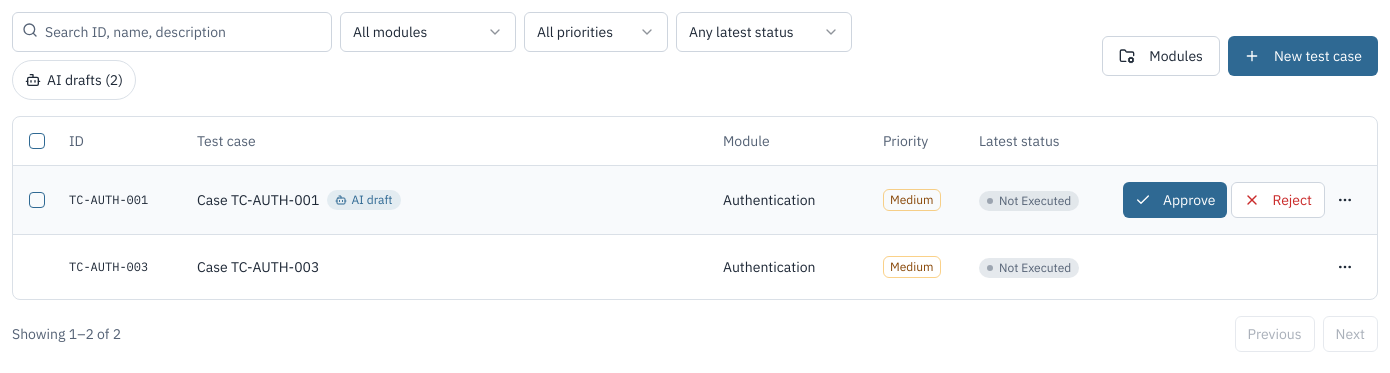
Scenario: CasesView — AI drafts › filters to the drafts with the chip, which shows how many there are
Click the button "AI drafts (2)".
click(74, 80)  # box [12,60,136,100]
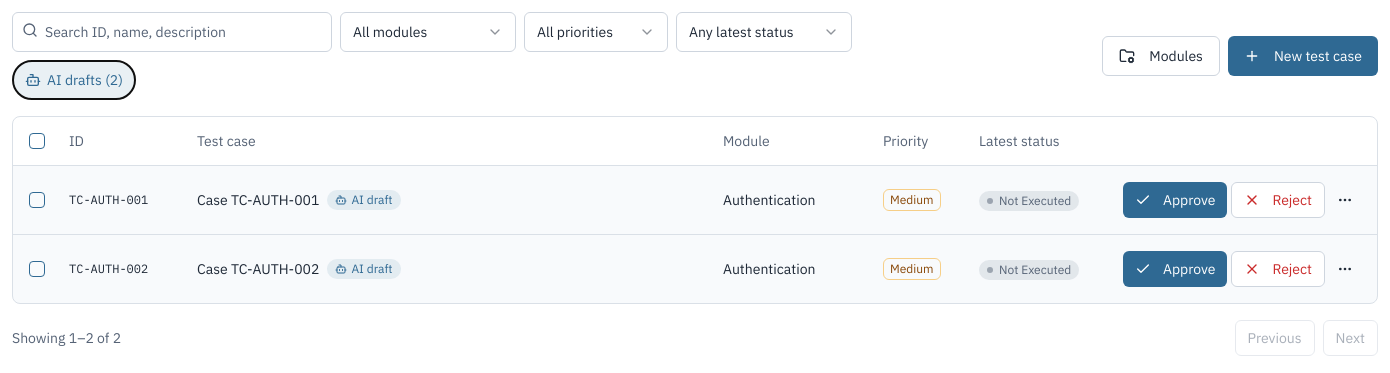
expect the text "TC-AUTH-002" is shown: met, box [53,234,181,302]
expect the text "TC-AUTH-003" is gone: met
